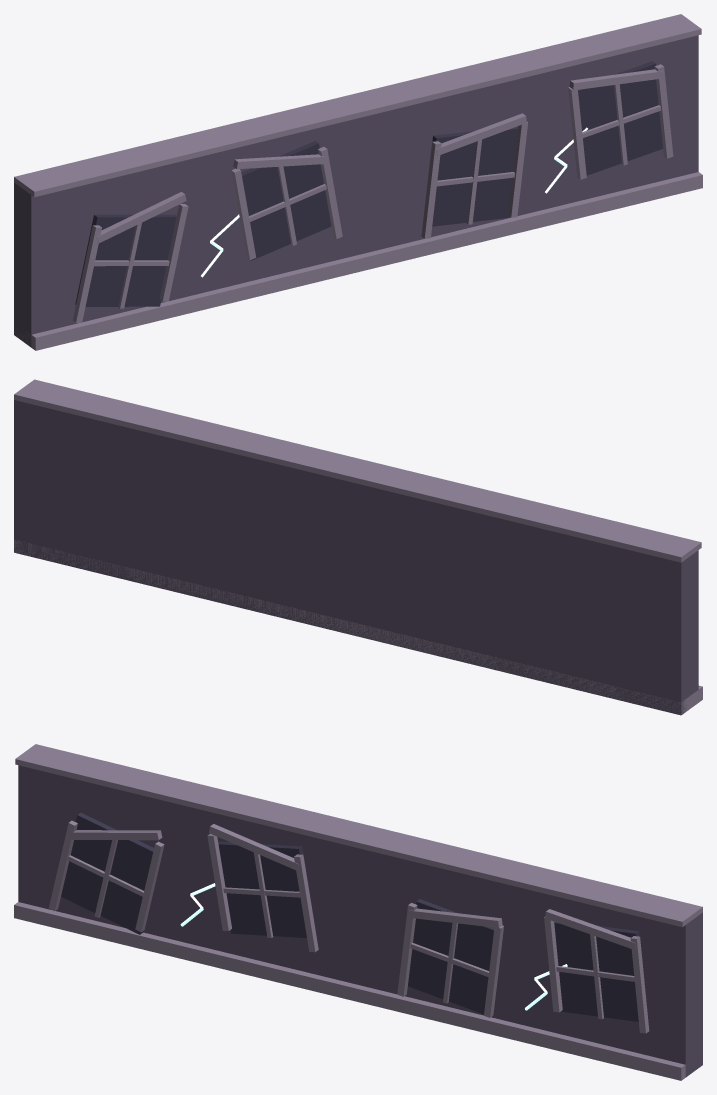
Rendered from IR_WallB.glb.
The picture shows the model from 3 angles, top to bottom: view 1: azimuth 30°, elevation 25°; view 2: azimuth 150°, elevation 25°; view 3: azimuth 330°, elevation 25°; orthographic projection.
Visible parts, largest first — view 1: IR_WallB; view 2: IR_WallB; view 3: IR_WallB.
Boxes of the visible parts, x1=… form: IR_WallB: x1=14, y1=14, x2=702, y2=350; IR_WallB: x1=14, y1=379, x2=702, y2=715; IR_WallB: x1=14, y1=744, x2=702, y2=1080.
Size of the model in its own units: 64 by 14.5 by 4.12.
Materials: 2 (2 with a texture image).
